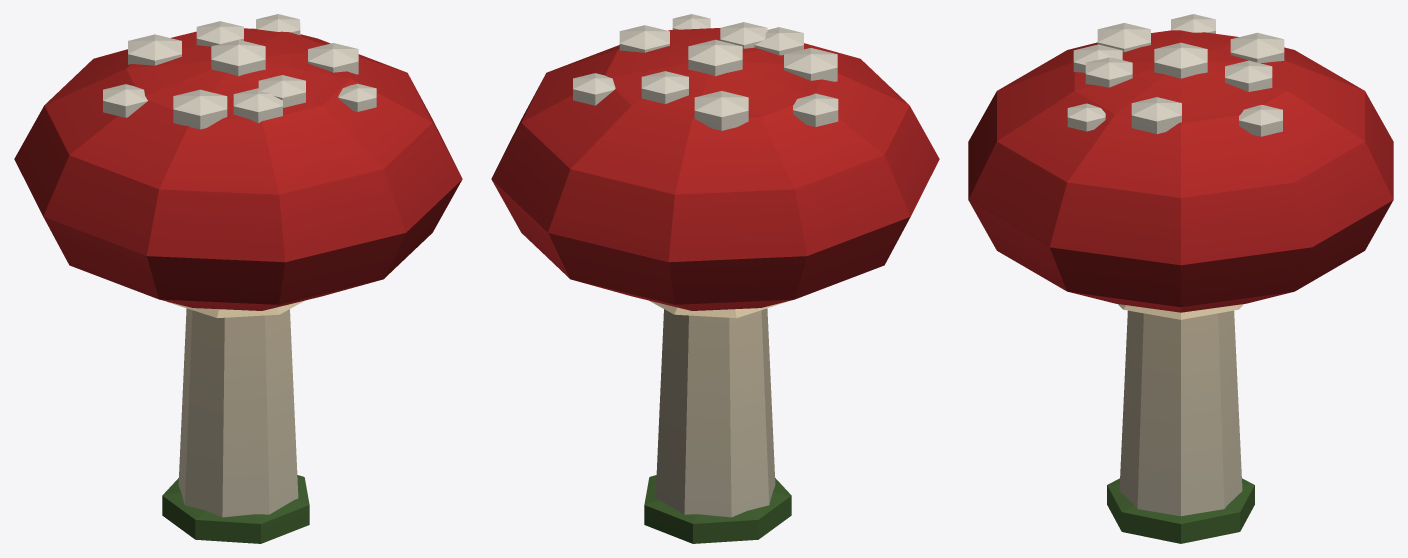
File: toadstool_big.glb
3 views of the same model, side by side, from view 1: azimuth 30°, elevation 25°; view 2: azimuth 150°, elevation 25°; view 3: azimuth 270°, elevation 25° (orthographic).
Visible parts, largest first — view 1: toadstool_big; view 2: toadstool_big; view 3: toadstool_big.
Boxes of the visible parts, x1=… form: toadstool_big: x1=14, y1=14, x2=462, y2=543; toadstool_big: x1=491, y1=14, x2=939, y2=543; toadstool_big: x1=968, y1=14, x2=1393, y2=543.
Size of the model in its own units: 2.3 by 2.69 by 2.19.
